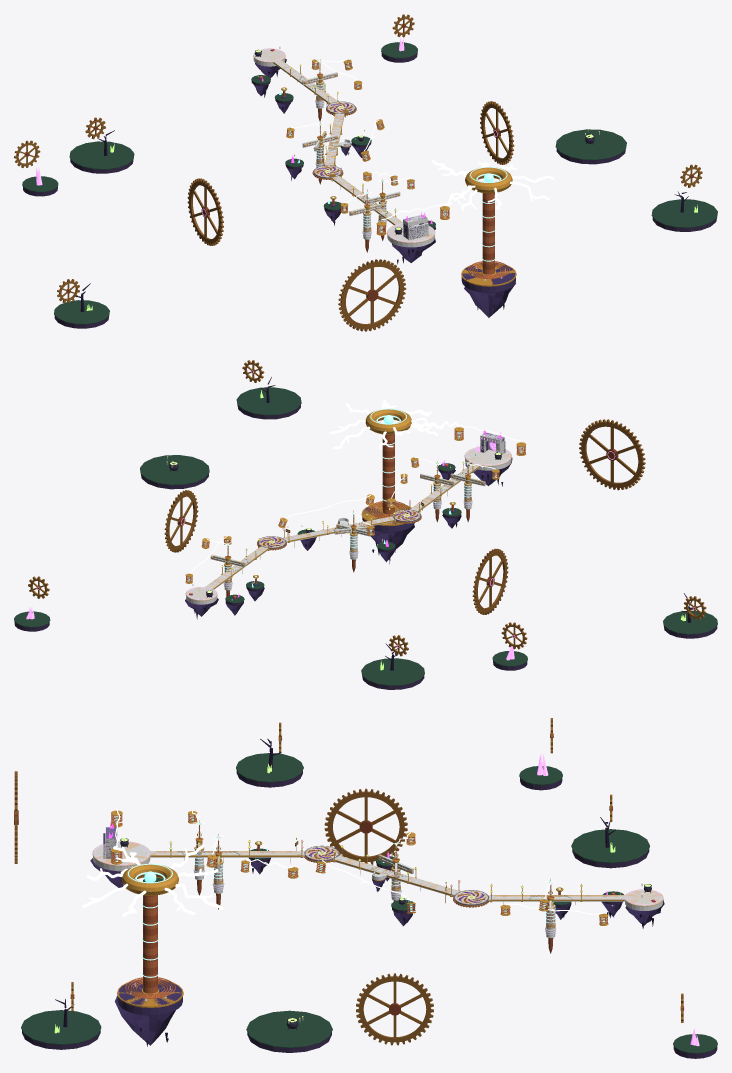
3 views of the same model, one above another, from view 1: azimuth 30°, elevation 25°; view 2: azimuth 150°, elevation 25°; view 3: azimuth 270°, elevation 25° (orthographic). The views are drawn at different scales.
Visible parts, largest first — view 1: V_grass_dark, C_0, V_brass, V_copper, V_brass.015, V_rock, V_dirt, V_brass.017, V_stone_dark, V_brass.016, V_walk, V_glow_cyan (+1 smaller); view 2: V_grass_dark, C_0, V_brass, V_brass.015, V_copper, V_dirt, V_rock, V_brass.017, V_brass.016, V_walk, V_glow_cyan, V_arc.012; view 3: V_grass_dark, C_0, V_brass, V_copper, V_dirt, V_rock, V_brass.017, V_brass.016, V_stone_dark, V_walk, V_glow_cyan, V_arc.012 (+2 smaller).
Part boxes in pixels (box(x1,y1,x2,y2)): V_grass_dark: box(22, 42, 717, 324); C_0: box(253, 48, 434, 247); V_brass: box(261, 49, 516, 286); V_copper: box(283, 62, 509, 278); V_brass.015: box(338, 259, 406, 331); V_rock: box(254, 59, 515, 317); V_dirt: box(23, 53, 716, 328); V_brass.017: box(187, 178, 223, 245); V_stone_dark: box(281, 95, 515, 292); V_brass.016: box(480, 101, 514, 164); V_walk: box(253, 48, 435, 243); V_glow_cyan: box(279, 61, 507, 261); V_grass_dark: box(14, 387, 717, 685); C_0: box(186, 446, 511, 604); V_brass: box(190, 409, 499, 596); V_brass.015: box(579, 419, 645, 490); V_copper: box(202, 434, 499, 596); V_dirt: box(14, 404, 717, 689); V_rock: box(185, 457, 512, 616); V_brass.017: box(472, 548, 508, 614); V_brass.016: box(164, 490, 198, 552); V_walk: box(185, 449, 511, 600); V_glow_cyan: box(204, 408, 496, 587); V_arc.012: box(333, 403, 442, 449); V_grass_dark: box(21, 753, 717, 1053); C_0: box(93, 841, 663, 937); V_brass: box(117, 811, 653, 1007); V_copper: box(125, 814, 560, 998); V_dirt: box(22, 770, 717, 1058); V_rock: box(90, 858, 664, 1045); V_brass.017: box(324, 788, 407, 864); V_brass.016: box(356, 973, 433, 1045); V_stone_dark: box(103, 833, 385, 1015); V_walk: box(92, 841, 663, 906); V_glow_cyan: box(127, 815, 613, 977); V_arc.012: box(86, 852, 223, 916).
Size of the model in its own units: 166 by 41.9 by 147.
